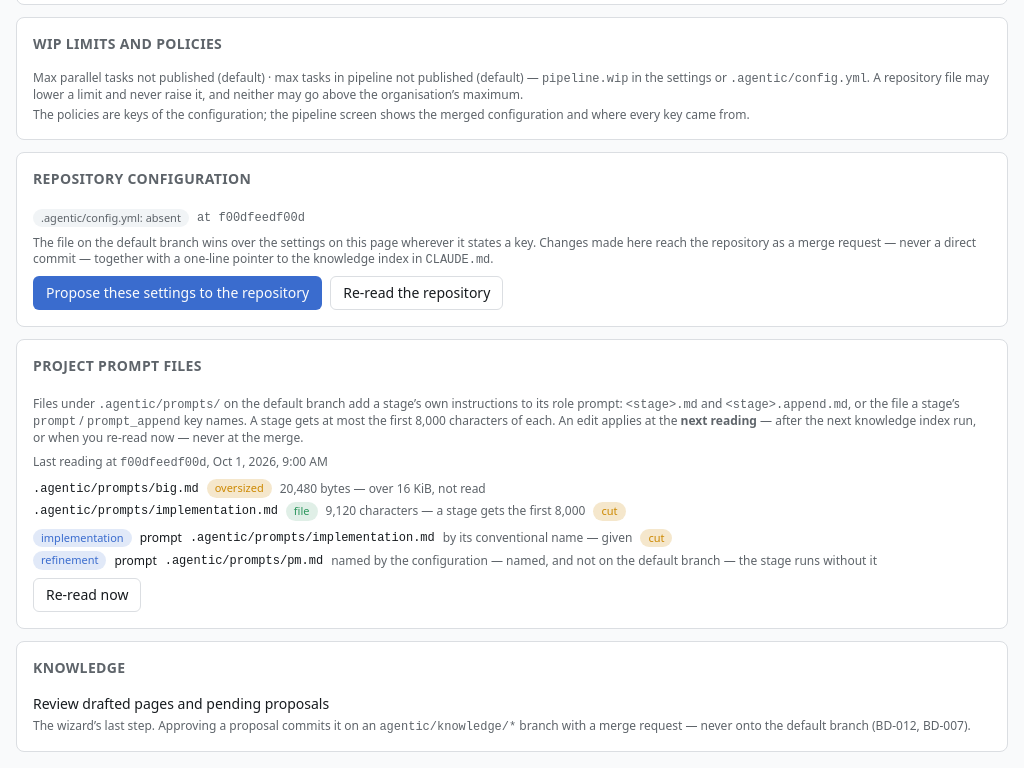
Test case: the project prompt files card (WP-113) › shows the reading’s commit, each file’s length and cut, what each stage is given, and re-reads on the existing refresh
(page scrolled)
Expected: the heading "Project prompt files" is shown, [33,356,202,376]
Expected: the list named "Prompt files in the last reading" shows ".agentic/prompts/implementation.md", [33,504,278,518]
Click the button "Re-read now". click: (87, 595)
box: [33,578,142,612]
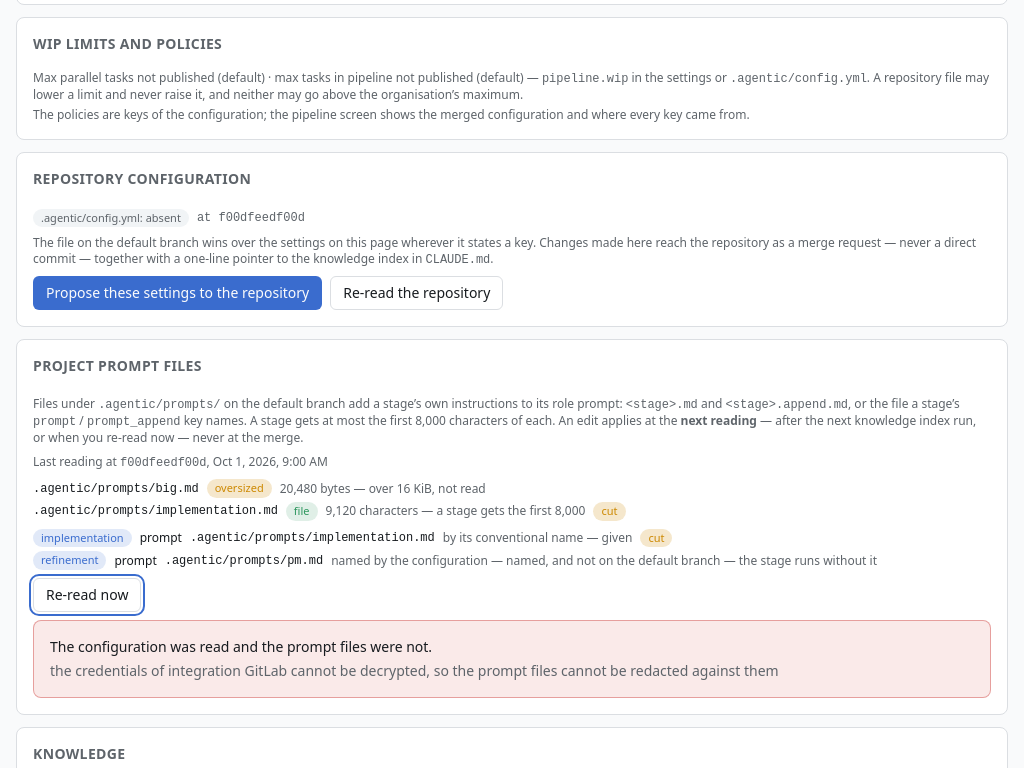
Now the text "the prompt files were not" is shown, box [50,637,432,656]
Now the text "integration GitLab cannot be decrypted" is shown, box [50,661,779,680]
